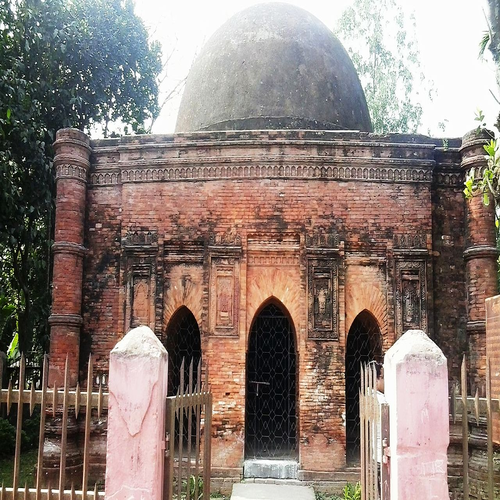Mosque: (35, 1, 491, 488)
